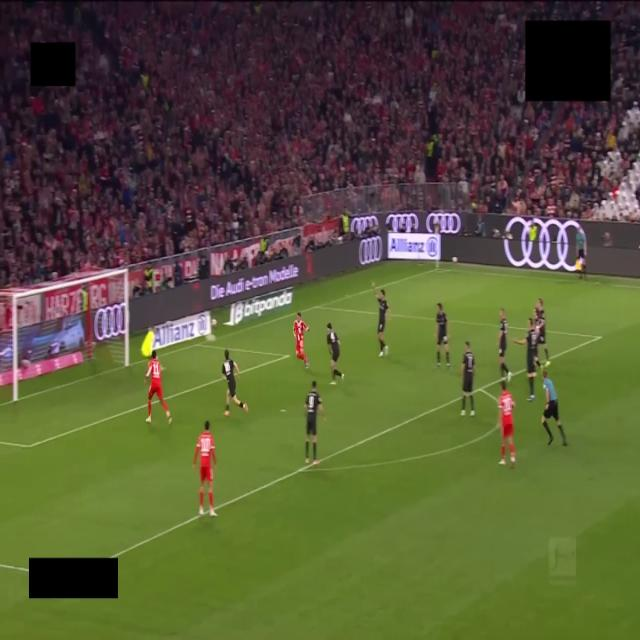ball: (212, 319, 216, 328)
player: (193, 421, 216, 517), (515, 319, 540, 401), (146, 351, 171, 424), (222, 350, 247, 416), (305, 381, 324, 464), (499, 380, 515, 467), (373, 284, 388, 357), (461, 342, 475, 416), (327, 323, 343, 384), (498, 308, 511, 381), (537, 298, 550, 367), (436, 304, 450, 367), (294, 312, 308, 367)
referee: (542, 371, 567, 446)
